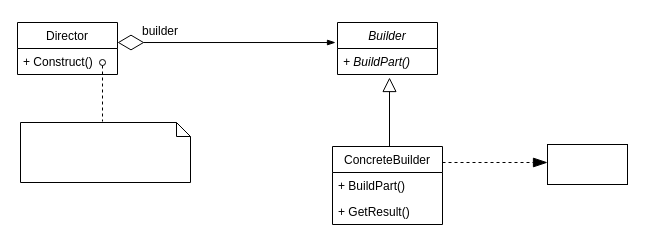
The diagram is 645 pixels wide and 245 high, and some of its shapes have lost their labels. The shapes that lost their labels are listed below. From the top down, each one's centre as x and y in pixels, then its label:
At pixel 105 152: "for all objexts in structure { builder->BuildPart() }".
At pixel 587 164: "Product".
